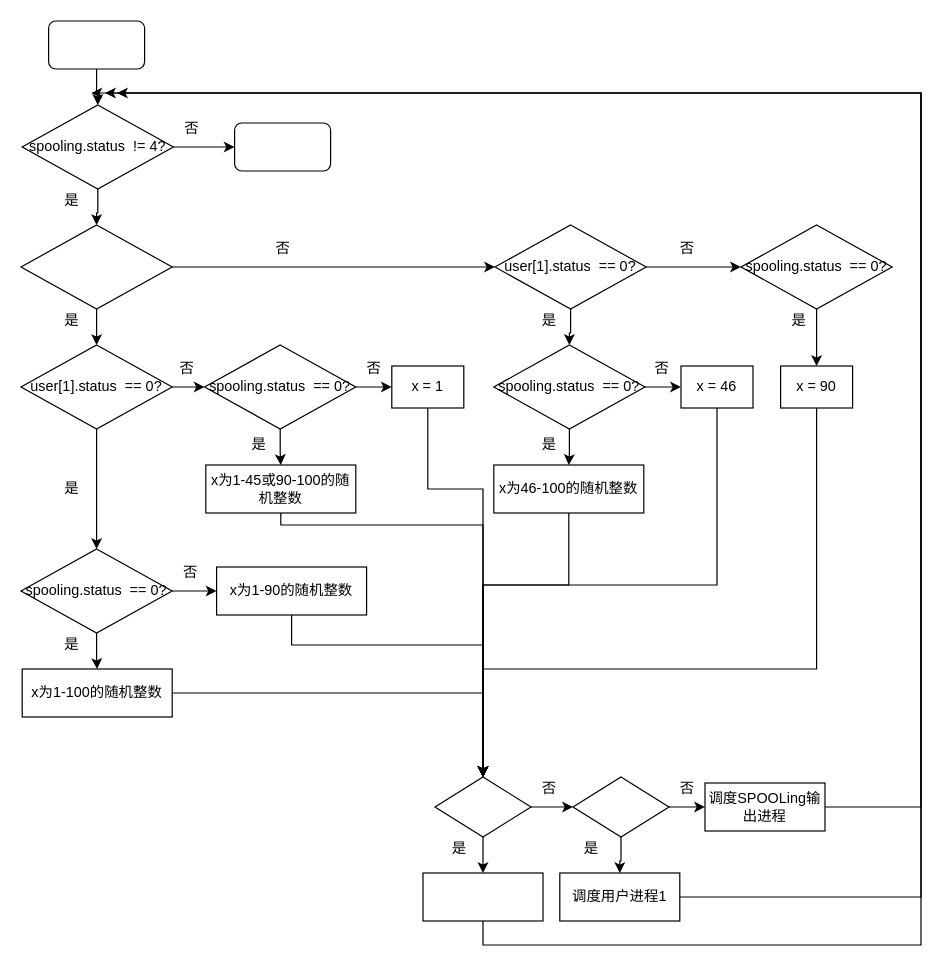
This 952x976 diagram has some shape labels left out. Each missing label, with the centre of its shape:
user[0].status == 0?: (x=96, y=266)
x ≤ 45？: (x=482, y=806)
x ≤ 90？: (x=620, y=806)
开始: (x=96, y=44)
结束: (x=282, y=146)
调度用户进程0: (x=482, y=896)
